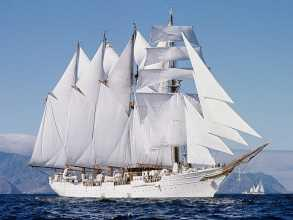fanchuan: (24, 1, 272, 200)
